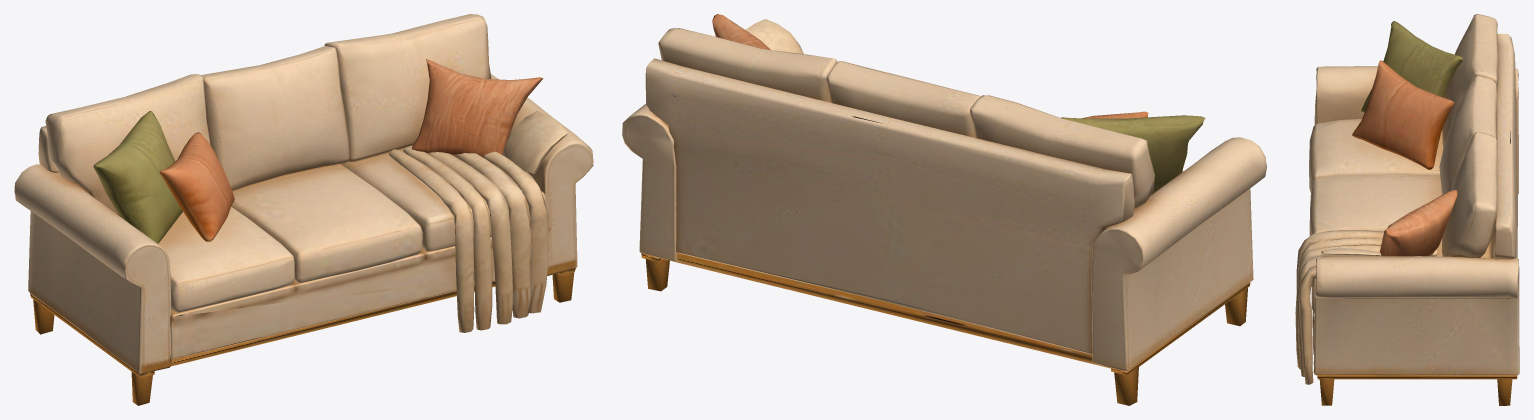
Rendered from sofa.classic.glb.
3 renders of one model, left to right at view 1: azimuth 30°, elevation 25°; view 2: azimuth 150°, elevation 25°; view 3: azimuth 270°, elevation 25°, orthographic. The views are drawn at different scales.
Visible parts, largest first — view 1: geometry_0; view 2: geometry_0; view 3: geometry_0.
Boxes of the visible parts, x1,y1,x2,y2 form: geometry_0: (14,14,593,405); geometry_0: (622,14,1266,405); geometry_0: (1295,14,1519,405).
Bounding box in the file's own units: 1 × 0.4706 × 0.4583.
Materials: 1 (1 with a texture image).
